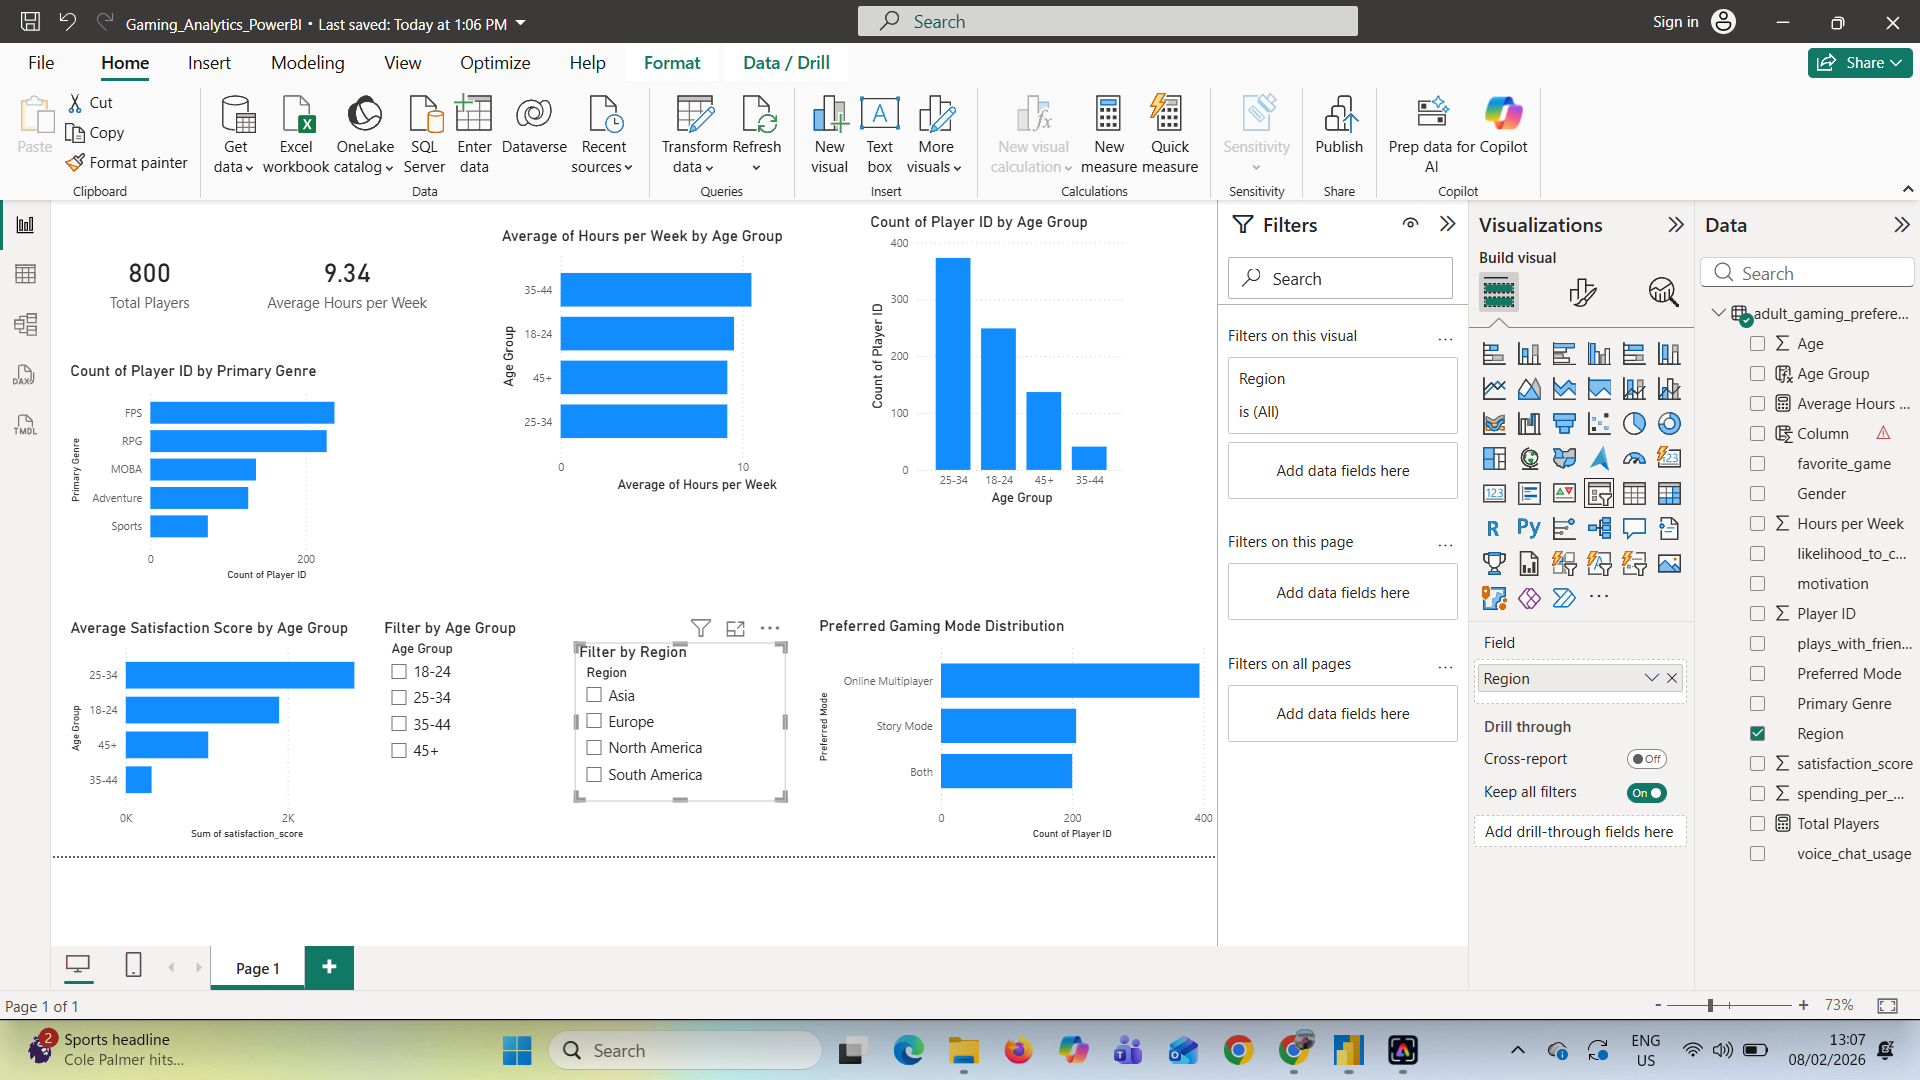

This screenshot's page, from the dashboard's own definition file:
{"tool":"powerbi","page":{"name":"Page 1","canvas":[1280,720],"ordinal":0},"visuals":[{"type":"card","fields":{"Values":["adult_gaming_preferences_synthetic.Total Players"]},"box":[0,0,216.8,177],"z":0},{"type":"card","fields":{"Values":["adult_gaming_preferences_synthetic.Average Hours per Week"]},"box":[216.8,0,216.8,177],"z":1000},{"type":"clusteredBarChart","fields":{"Category":["adult_gaming_preferences_synthetic.Age Group"],"Y":["adult_gaming_preferences_synthetic.Hours per Week"]},"box":[489.9,28.8,381.5,296.4],"z":3000},{"type":"columnChart","fields":{"Y":["adult_gaming_preferences_synthetic.Player ID"],"Category":["adult_gaming_preferences_synthetic.Age Group"]},"box":[894.7,13.7,290.9,326.6],"z":4000},{"type":"barChart","fields":{"Category":["adult_gaming_preferences_synthetic.Primary Genre"],"Y":["adult_gaming_preferences_synthetic.Player ID"]},"box":[16.5,177,363.6,245.6],"z":5000},{"type":"clusteredBarChart","title":"Average Satisfaction Score by Age Group","fields":{"Category":["adult_gaming_preferences_synthetic.Age Group"],"Y":["adult_gaming_preferences_synthetic.satisfaction_score"]},"box":[16.5,459.7,344.4,247],"z":5001},{"type":"clusteredBarChart","title":"Preferred Gaming Mode Distribution","fields":{"Category":["adult_gaming_preferences_synthetic.Preferred Mode"],"Y":["adult_gaming_preferences_synthetic.Player ID"]},"box":[838.4,456.9,441.9,249.7],"z":5002},{"type":"slicer","title":"Filter by Age Group","fields":{"Values":["adult_gaming_preferences_synthetic.Age Group"]},"box":[348.5,340.3,290.9,175.6],"z":5003},{"type":"slicer","title":"Filter by Region","fields":{"Values":["adult_gaming_preferences_synthetic.Region"]},"box":[542,341.7,231.9,174.3],"z":5004}]}

Visuals, with their boxes on the page's 1280x720 design canvas (x1, y1, x2, y2). These are canvas units, not pixel positions in the 1920x1080 screenshot, which may show the page scaled, cropped or inside an application window:
card - adult_gaming_preferences_synthetic.Total Players: 0, 0, 217, 177
card - adult_gaming_preferences_synthetic.Average Hours per Week: 217, 0, 434, 177
clusteredBarChart - adult_gaming_preferences_synthetic.Age Group x adult_gaming_preferences_synthetic.Hours per Week: 490, 29, 871, 325
columnChart - adult_gaming_preferences_synthetic.Player ID x adult_gaming_preferences_synthetic.Age Group: 895, 14, 1186, 340
barChart - adult_gaming_preferences_synthetic.Primary Genre x adult_gaming_preferences_synthetic.Player ID: 16, 177, 380, 423
"Average Satisfaction Score by Age Group" clusteredBarChart: 16, 460, 361, 707
"Preferred Gaming Mode Distribution" clusteredBarChart: 838, 457, 1280, 707
"Filter by Age Group" slicer: 348, 340, 639, 516
"Filter by Region" slicer: 542, 342, 774, 516
